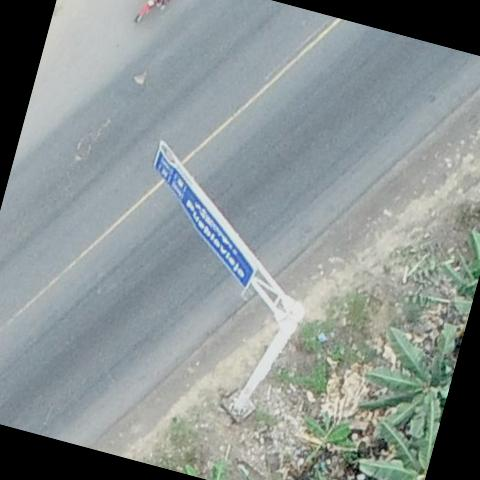Banana-plant: (350, 312, 464, 454), (343, 376, 447, 480), (289, 403, 364, 463)
